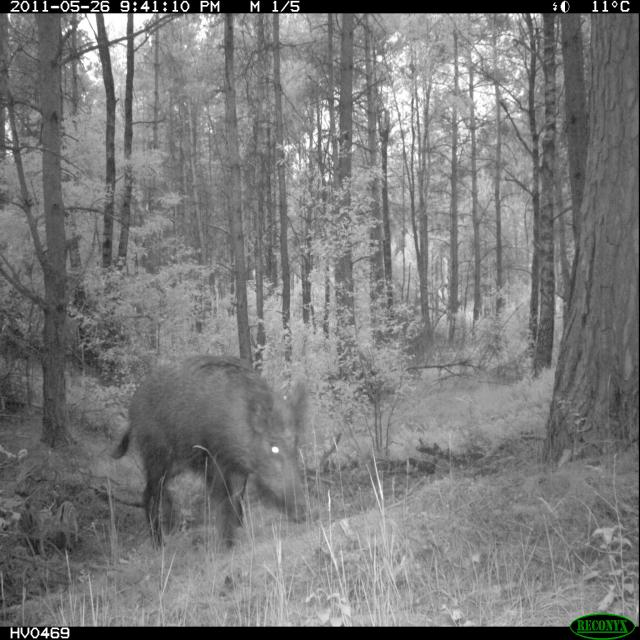boar: (87, 334, 330, 562)
